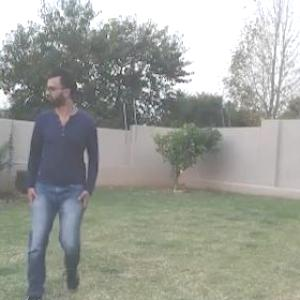follow: (18, 46, 102, 299)
